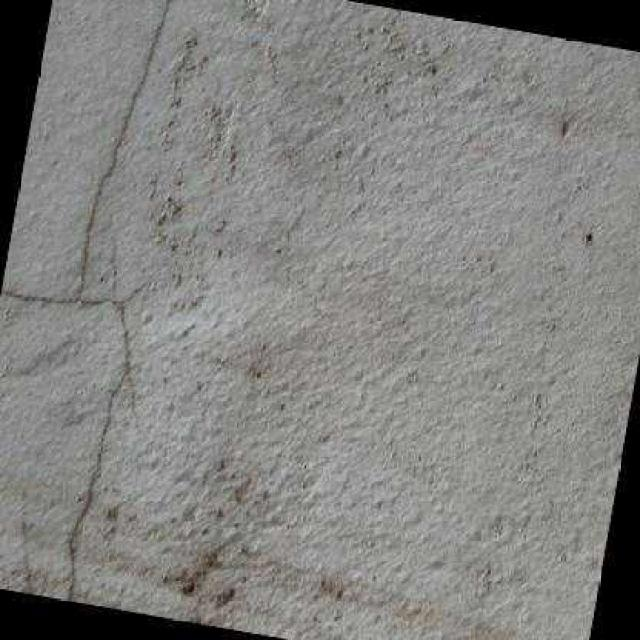D00: (0, 0, 177, 601)
